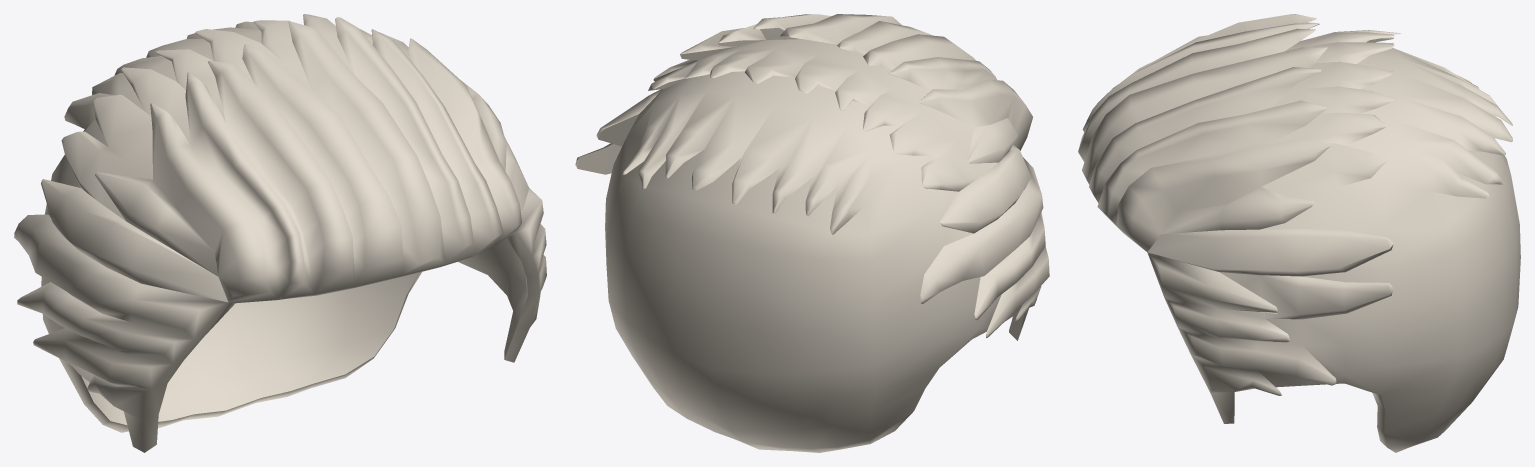
The model's file is Hair_13_07.fbx.
3 views of the same model, side by side, from view 1: azimuth 30°, elevation 25°; view 2: azimuth 150°, elevation 25°; view 3: azimuth 270°, elevation 25° (orthographic). The views are drawn at different scales.
Parts seen in each view (by area): view 1: Hair_13_07; view 2: Hair_13_07; view 3: Hair_13_07.
Part boxes in pixels (x1,y1,x2,y2): Hair_13_07: [14, 14, 546, 452]; Hair_13_07: [575, 14, 1049, 452]; Hair_13_07: [1078, 14, 1520, 452].
Bounding box in the file's own units: 41.2 × 37.07 × 38.65.
